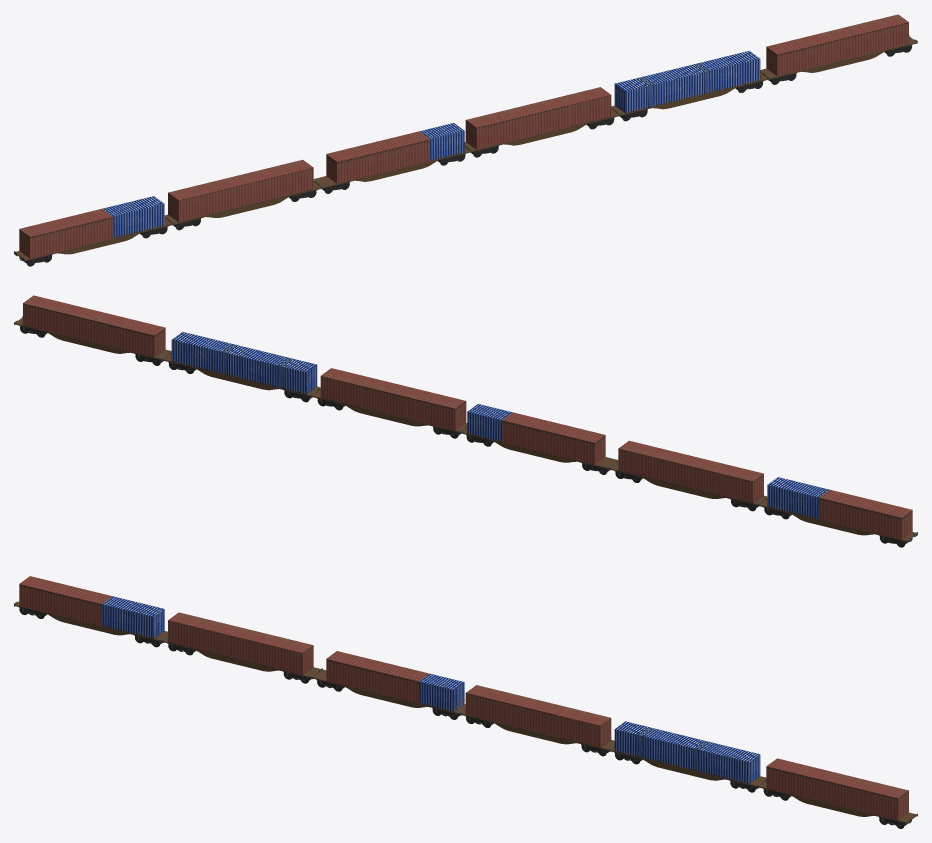
The model's file is Container.fbx.
3 views of the same model, one above another, from view 1: azimuth 30°, elevation 25°; view 2: azimuth 150°, elevation 25°; view 3: azimuth 330°, elevation 25° (orthographic).
Visible parts, largest first — view 1: Containers; view 2: Containers; view 3: Containers.
Part boxes in pixels (x1,y1,x2,y2): Containers: (14, 14, 917, 266); Containers: (14, 295, 917, 547); Containers: (14, 576, 917, 828).
Bounding box in the file's own units: 2892 × 97.91 × 62.12.
Materials: 10 (6 with a texture image).
